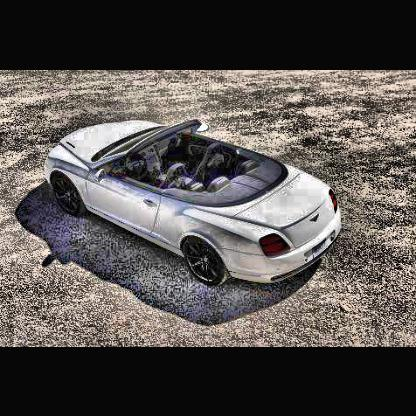Bentley Continental Supersports Conv- Convertible 2012: (42, 118, 345, 289)
